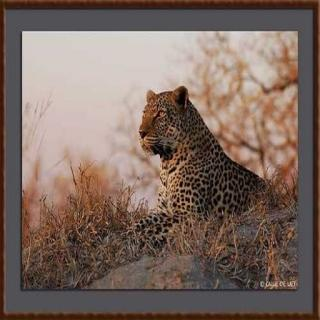Leopard: (125, 66, 274, 263)
